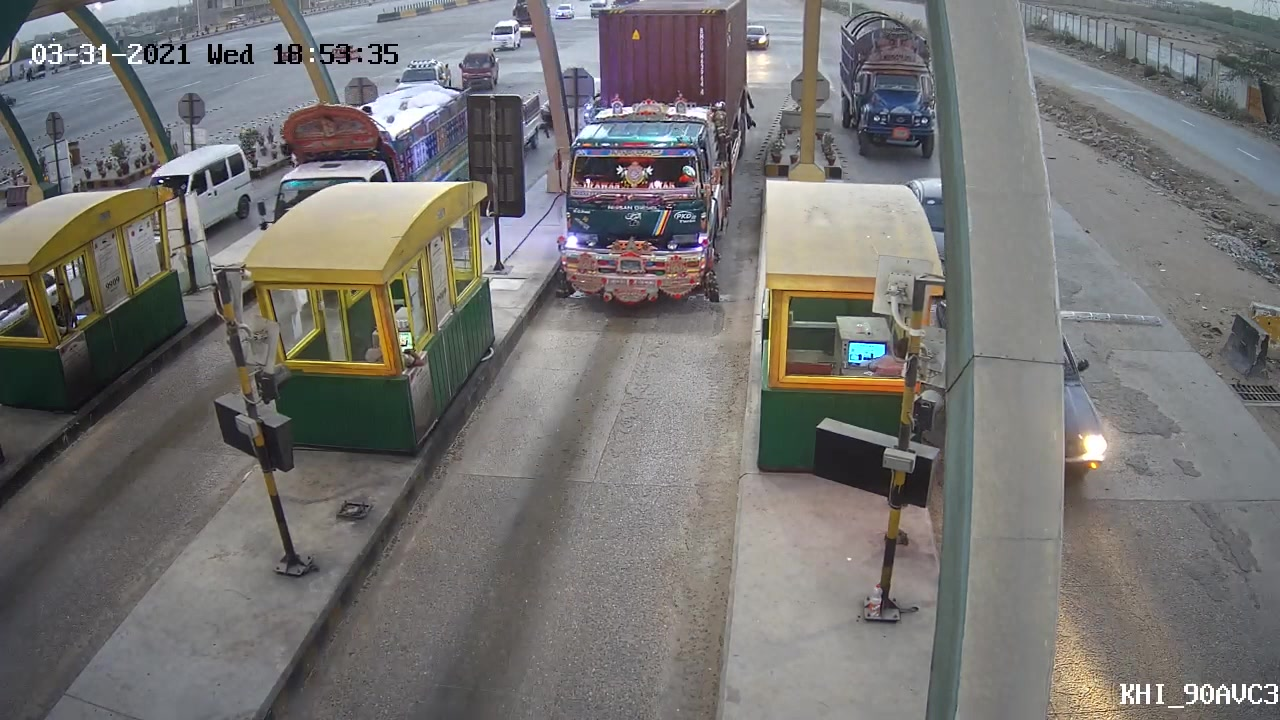F6: (553, 1, 748, 304)
